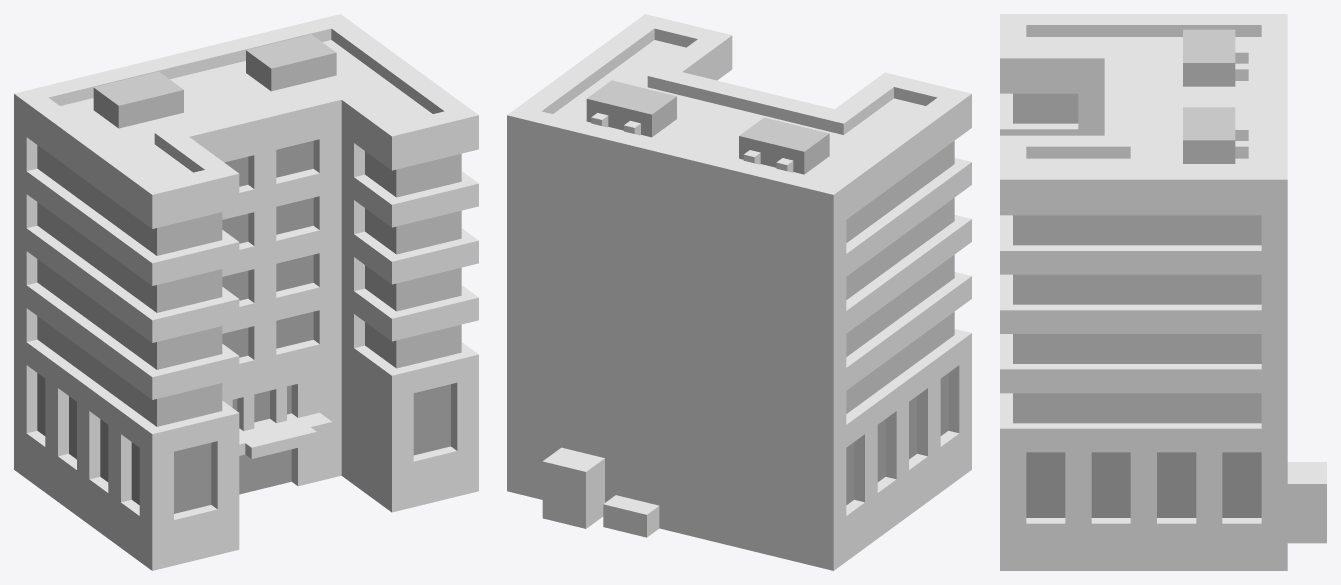
Rendered from building_5.obj.
3 renders of one model, left to right at view 1: azimuth 30°, elevation 25°; view 2: azimuth 150°, elevation 25°; view 3: azimuth 270°, elevation 25°, orthographic. The views are drawn at different scales.
Bounding box in the file's own units: 3 × 3.4 × 2.5.
1 material, 1 textured.
